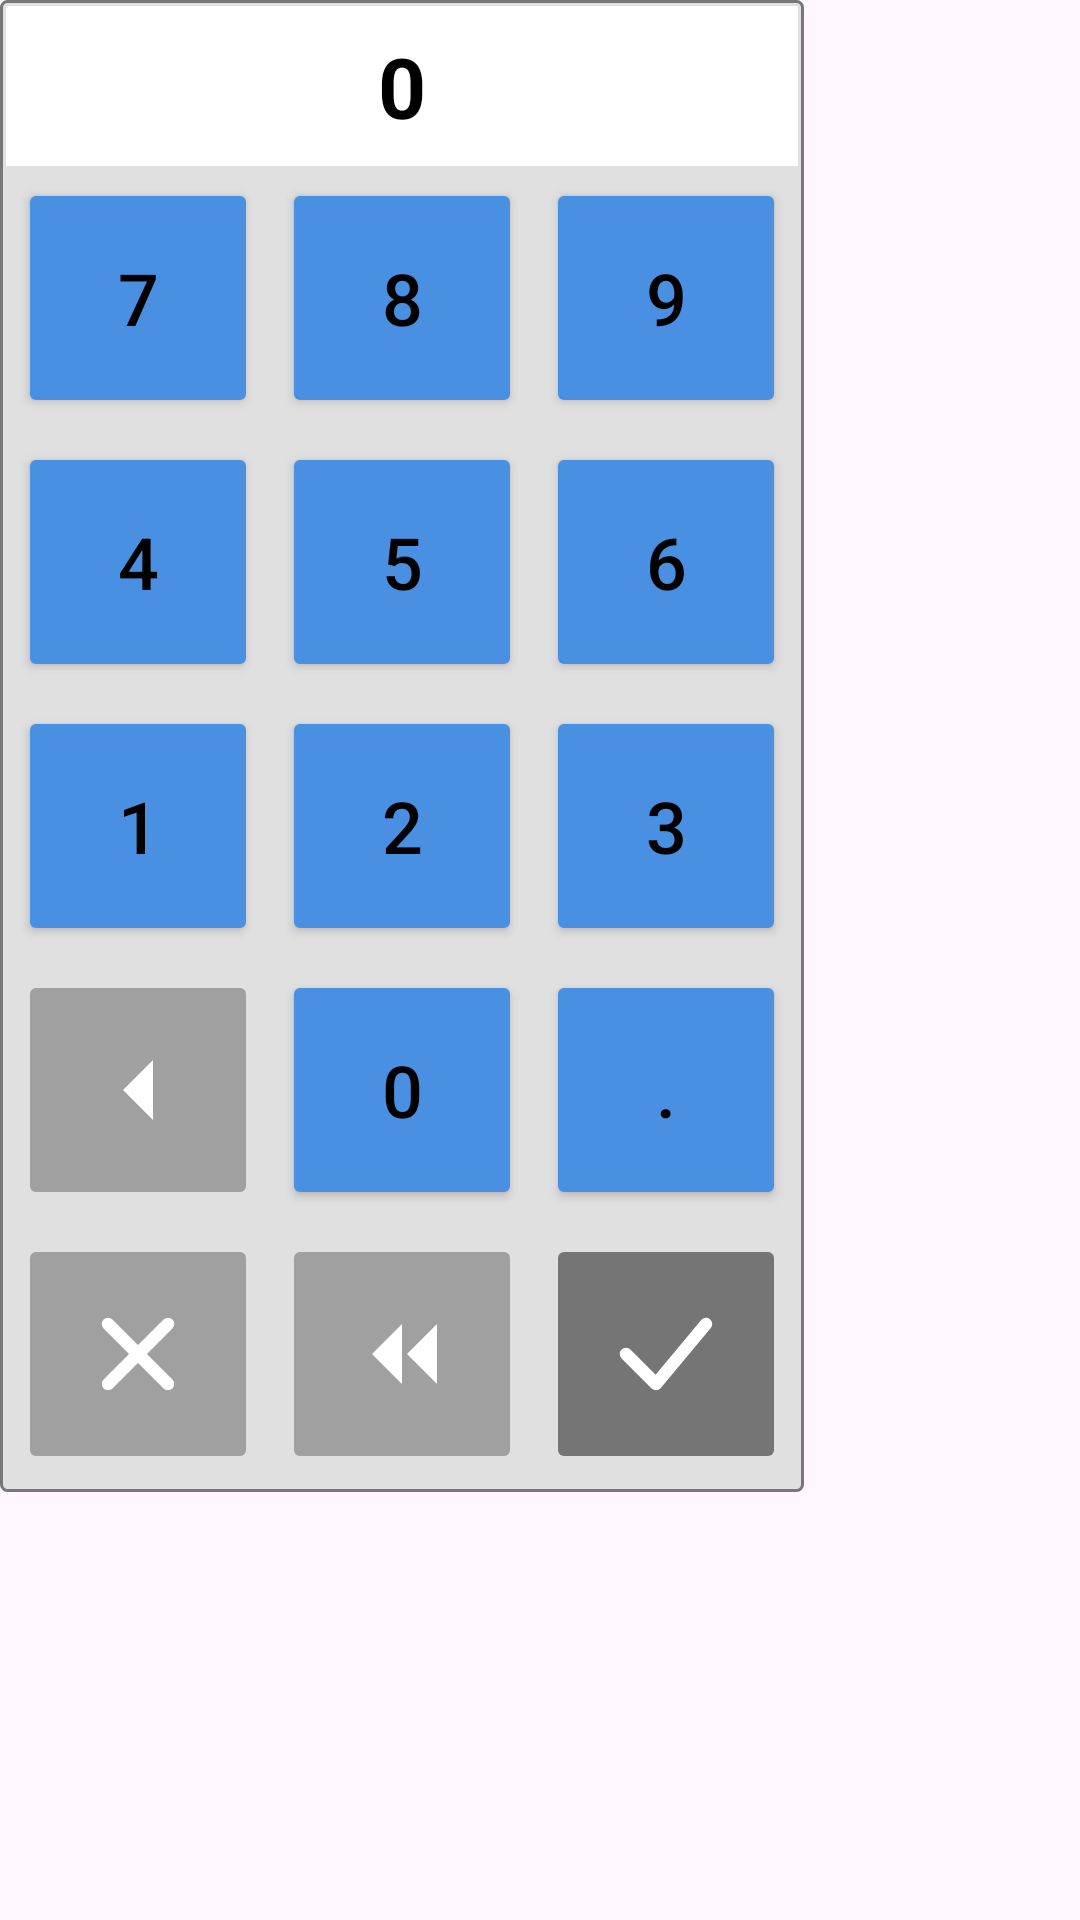

Icon click points for this 1080w x 1920h phone screenshot, format (x,y):
keypad arrow left: (138,1090)
keypad close: (138,1354)
keypad done: (666,1354)
keypad double arrow left: (402,1354)
